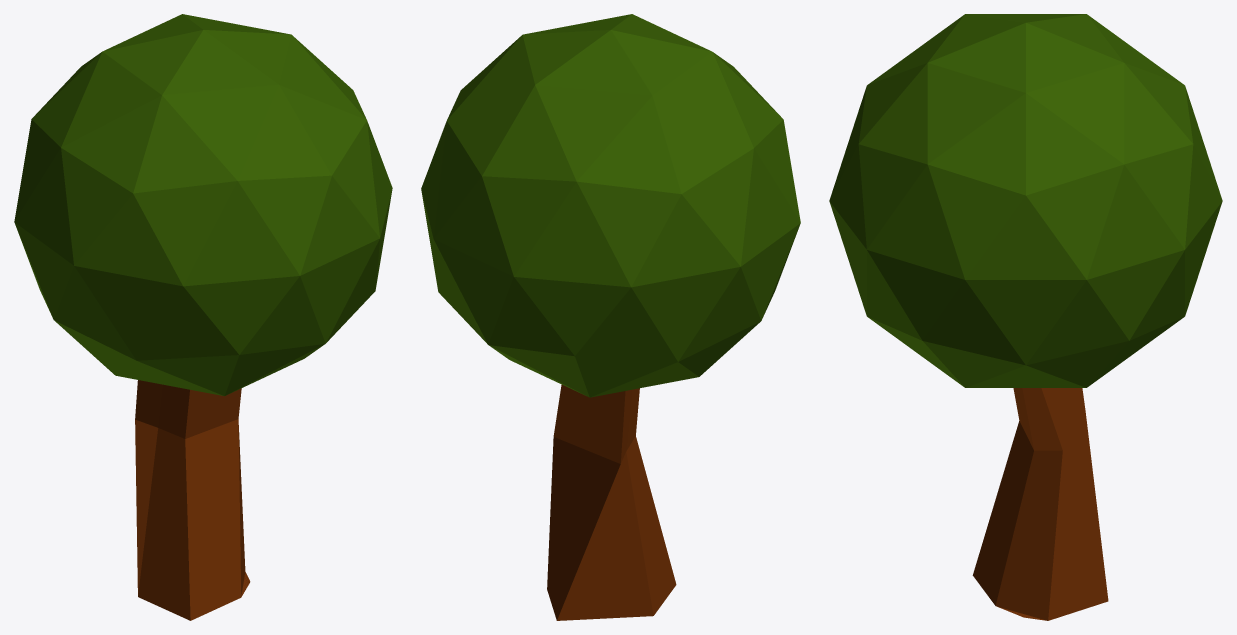
Rendered from Tree1.fbx.
3 renders of one model, left to right at view 1: azimuth 30°, elevation 25°; view 2: azimuth 150°, elevation 25°; view 3: azimuth 270°, elevation 25°, orthographic.
Visible parts, largest first — view 1: Икосфера, Куб; view 2: Икосфера, Куб; view 3: Икосфера, Куб.
Boxes of the visible parts, x1,y1,x2,y2 form: Икосфера: (14, 14, 392, 396); Куб: (135, 380, 250, 620); Икосфера: (421, 14, 800, 397); Куб: (547, 385, 676, 620); Икосфера: (829, 14, 1222, 387); Куб: (972, 388, 1108, 620).
Bounding box in the file's own units: 455 × 768 × 479.
